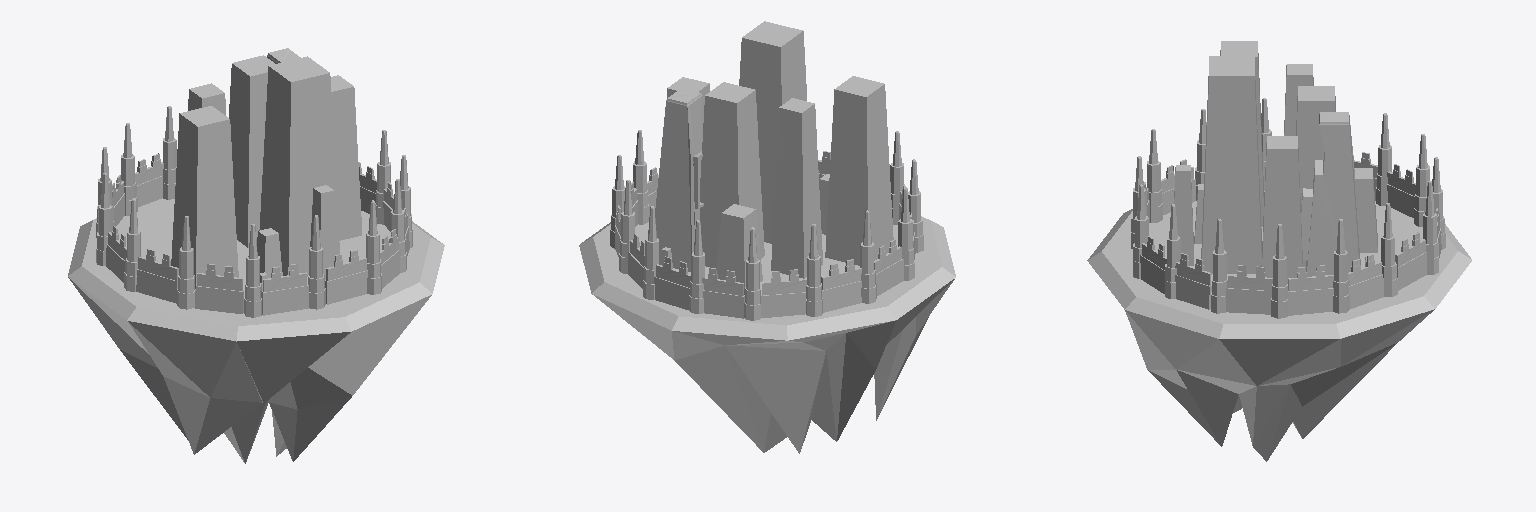
File: ciudad.obj
3 renders of one model, left to right at view 1: azimuth 30°, elevation 25°; view 2: azimuth 150°, elevation 25°; view 3: azimuth 270°, elevation 25°, orthographic.
Visible parts, largest first — view 1: piso.001_Icosphere.001, Edificios_Cube.016, muros_Cube.052; view 2: Edificios_Cube.016, piso.001_Icosphere.001, muros_Cube.052; view 3: piso.001_Icosphere.001, Edificios_Cube.016, muros_Cube.052.
Boxes of the visible parts, x1,y1,x2,y2 form: piso.001_Icosphere.001: [68, 198, 444, 463]; Edificios_Cube.016: [171, 48, 361, 290]; muros_Cube.052: [96, 106, 412, 317]; Edificios_Cube.016: [655, 21, 893, 287]; piso.001_Icosphere.001: [579, 216, 955, 453]; muros_Cube.052: [610, 130, 923, 320]; piso.001_Icosphere.001: [1087, 191, 1471, 461]; Edificios_Cube.016: [1174, 41, 1377, 283]; muros_Cube.052: [1131, 98, 1445, 318].
Size of the model in its own units: 9.56 by 11.48 by 10.06.